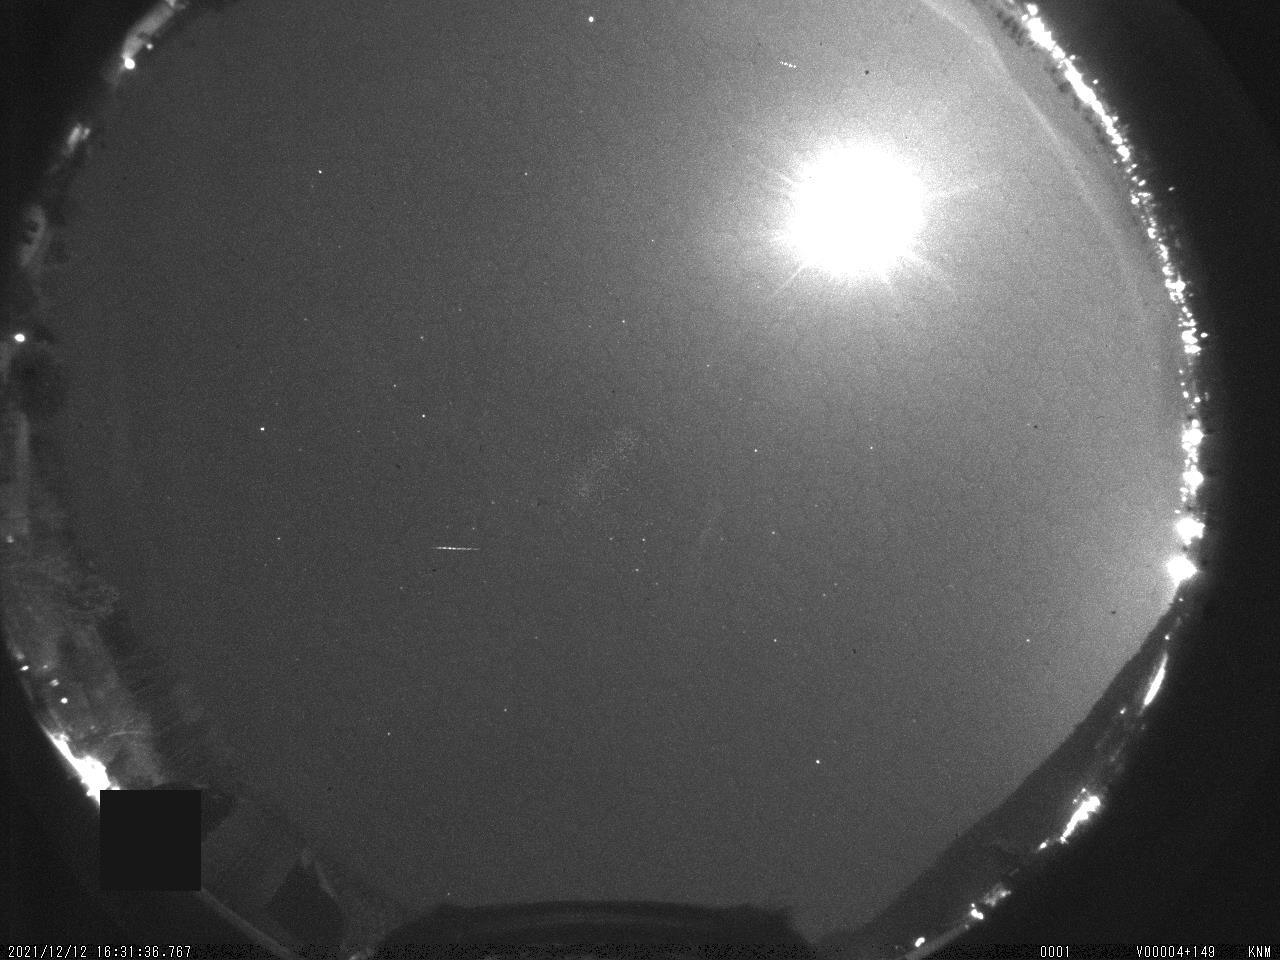meteor: (421, 535, 494, 558)
